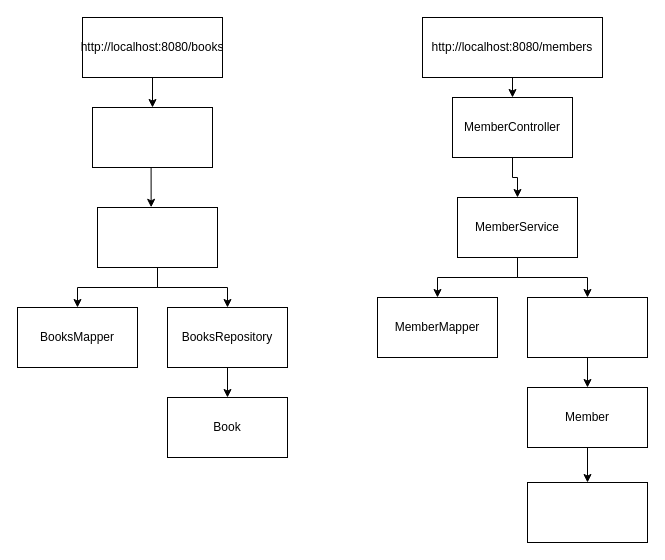
Image size: 665x560. Some labels were removed from this diagram. The centre of each missing label's shape, as x and y in pixels:
BooksController: point 152,137
BooksService: point 157,237
MemberRepository: point 587,327
MemberRole: point 587,512
